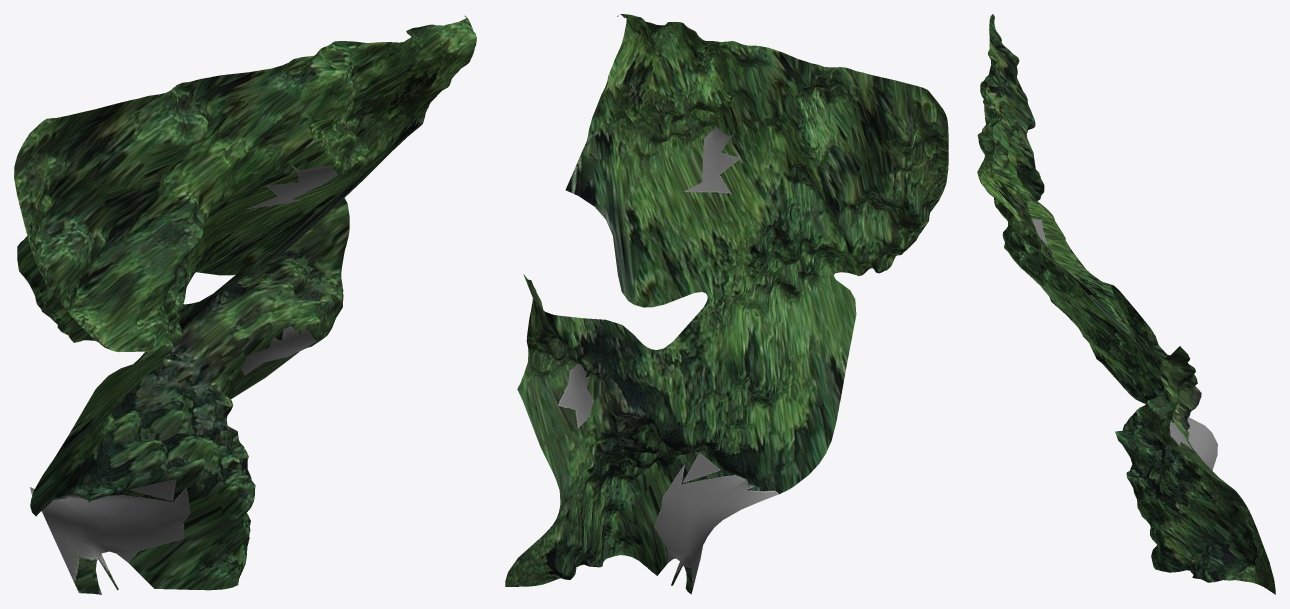
Rendered from Tile_+004_+004.fbx.
3 renders of one model, left to right at view 1: azimuth 30°, elevation 25°; view 2: azimuth 150°, elevation 25°; view 3: azimuth 270°, elevation 25°, orthographic. The views are drawn at different scales.
Parts seen in each view (by area): view 1: DefaultName; view 2: DefaultName; view 3: DefaultName.
Part boxes in pixels (x1,y1,x2,y2): DefaultName: [14, 15, 476, 594]; DefaultName: [505, 14, 948, 594]; DefaultName: [977, 14, 1275, 594].
Size of the model in its own units: 17.03 by 22.54 by 13.59.
